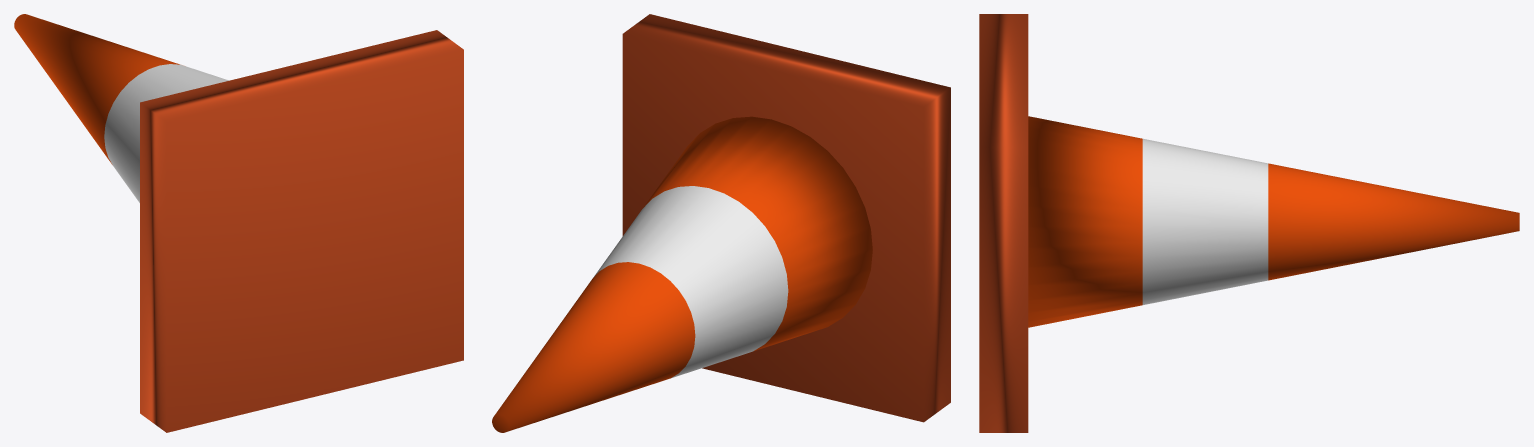
The model's file is road_pontoon.fbx.
The picture shows the model from 3 angles, left to right: view 1: azimuth 30°, elevation 25°; view 2: azimuth 150°, elevation 25°; view 3: azimuth 270°, elevation 25°; orthographic projection. The views are drawn at different scales.
Visible parts, largest first — view 1: Cube; view 2: Cube; view 3: Cube.
Part boxes in pixels (bbox=[...]): Cube: bbox=[14, 14, 463, 432]; Cube: bbox=[492, 14, 950, 432]; Cube: bbox=[979, 14, 1519, 432].
Size of the model in its own units: 291 by 291 by 500.
